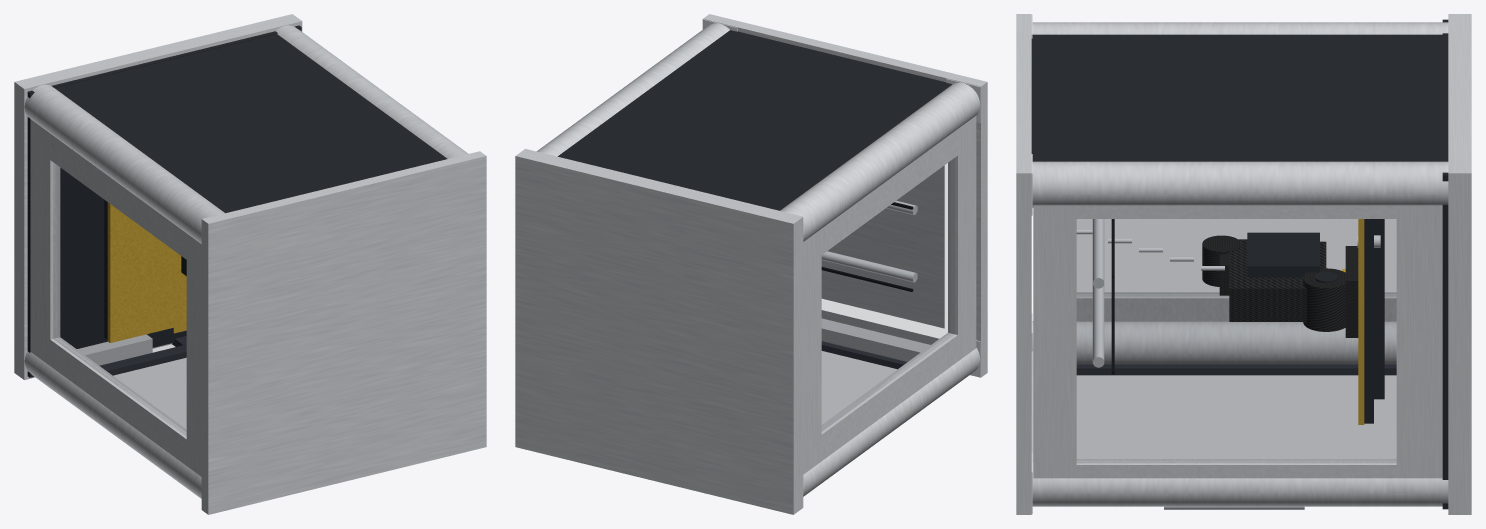
File: deltrol_p2s_optimized.glb
The picture shows the model from 3 angles, left to right: view 1: azimuth 30°, elevation 25°; view 2: azimuth 150°, elevation 25°; view 3: azimuth 270°, elevation 25°; orthographic projection. The views are drawn at different scales.
Visible parts, largest first — view 1: top_rim_outer, rear_panel, left_glass_window, bottom_panel, corner_post_-0.17_0.17, build_plate, base_plinth, left_wall_bot, left_wall_front, corner_post_-0.17_-0.17, left_wall_rear, left_wall_top (+5 smaller); view 2: base_plinth, rear_panel, left_glass_window, top_rim_outer, corner_post_-0.17_0.17, left_wall_top, left_wall_front, left_wall_bot, corner_post_-0.17_-0.17, left_wall_rear, corner_post_0.17_0.17, front_glass_door (+5 smaller); view 3: right_glass_window, rear_panel, front_glass_door, corner_post_0.17_0.17, right_wall_bot, corner_post_0.17_-0.17, right_wall_top, base_plinth, corner_post_-0.17_-0.17, left_glass_window, top_rim_outer, right_wall_front (+16 smaller).
Boxes of the visible parts, x1,y1,x2,y2 form: top_rim_outer: (201, 151, 486, 514); rear_panel: (55, 34, 447, 213); left_glass_window: (54, 165, 185, 431); bottom_panel: (27, 25, 301, 377); corner_post_-0.17_0.17: (24, 84, 224, 243); build_plate: (107, 202, 186, 342); base_plinth: (14, 14, 302, 379); left_wall_bot: (30, 119, 60, 365); left_wall_front: (50, 337, 188, 466); corner_post_-0.17_-0.17: (24, 351, 201, 498); left_wall_rear: (50, 134, 188, 259); left_wall_top: (186, 233, 201, 476); base_plinth: (515, 149, 803, 514); rear_panel: (558, 30, 951, 210); left_glass_window: (822, 162, 950, 430); top_rim_outer: (702, 14, 987, 377); corner_post_-0.17_0.17: (780, 82, 980, 241); left_wall_top: (948, 116, 976, 361); left_wall_front: (821, 333, 957, 460); left_wall_bot: (803, 229, 821, 474); corner_post_-0.17_-0.17: (803, 348, 980, 496); left_wall_rear: (821, 129, 957, 254); corner_post_0.17_0.17: (536, 23, 729, 156); front_glass_door: (822, 349, 897, 423); right_glass_window: (1077, 219, 1395, 462); rear_panel: (1031, 34, 1442, 161); front_glass_door: (1077, 373, 1395, 458); corner_post_0.17_0.17: (1032, 161, 1448, 207); right_wall_bot: (1396, 205, 1442, 478); corner_post_0.17_-0.17: (1032, 460, 1448, 506); right_wall_top: (1033, 205, 1076, 478); base_plinth: (1448, 14, 1471, 514); corner_post_-0.17_-0.17: (1032, 321, 1396, 364); left_glass_window: (1077, 219, 1395, 293); top_rim_outer: (1016, 14, 1031, 514); right_wall_front: (1072, 459, 1396, 478).
Size of the model in its own units: 0.389 by 0.4005 by 0.47.
12 materials, 12 textured.
